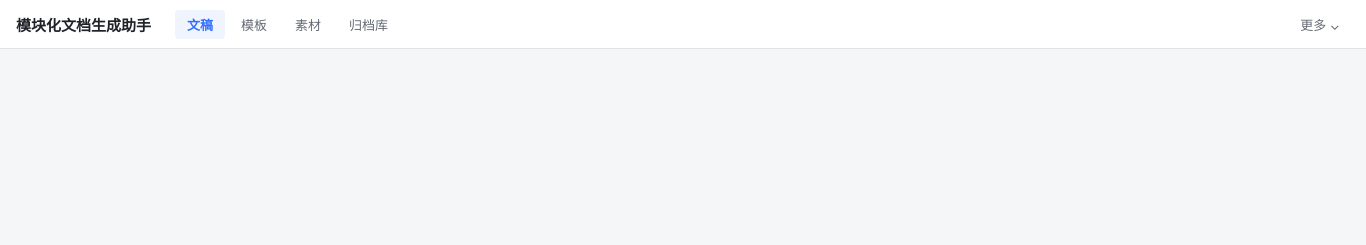
Test: TopBar 紧凑导航 › 撤销重做只在菜单中出现，并保留操作和忙碌禁用条件
Click the button "更多 ⌄" at (1320,24), box [1290,8,1350,40]
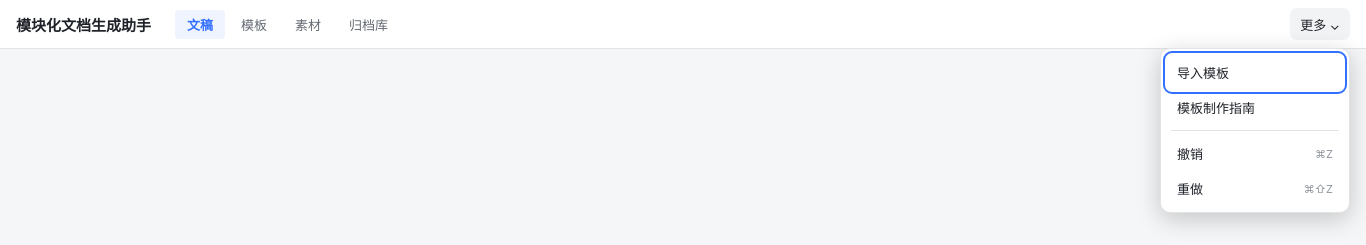
Result: the menu item "撤销 ⌘Z" is enabled
Click the menu item "撤销 ⌘Z" at (1255,154), box [1167,136,1343,171]
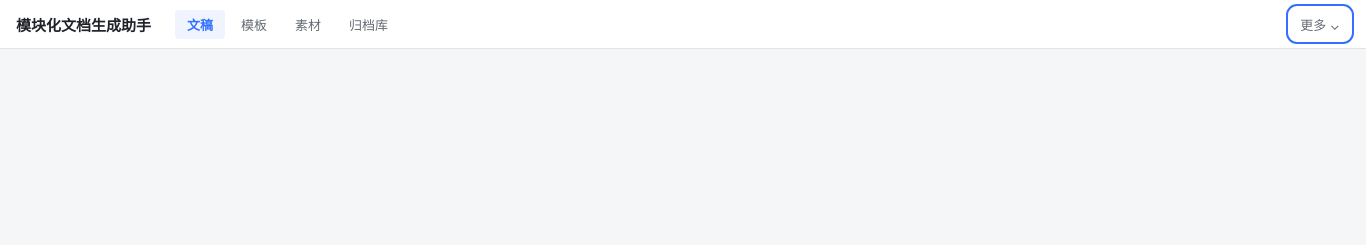
Click the button "更多 ⌄" at (1320,24), box [1290,8,1350,40]
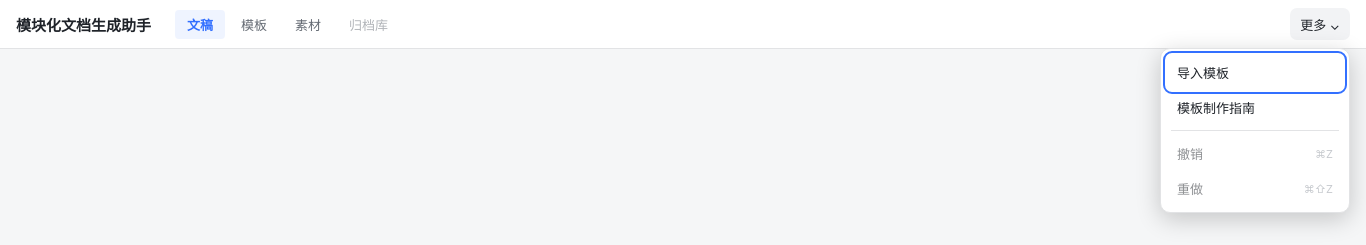
Result: the button with class "tab" showing "归档库" is disabled at [337,10,400,38]
